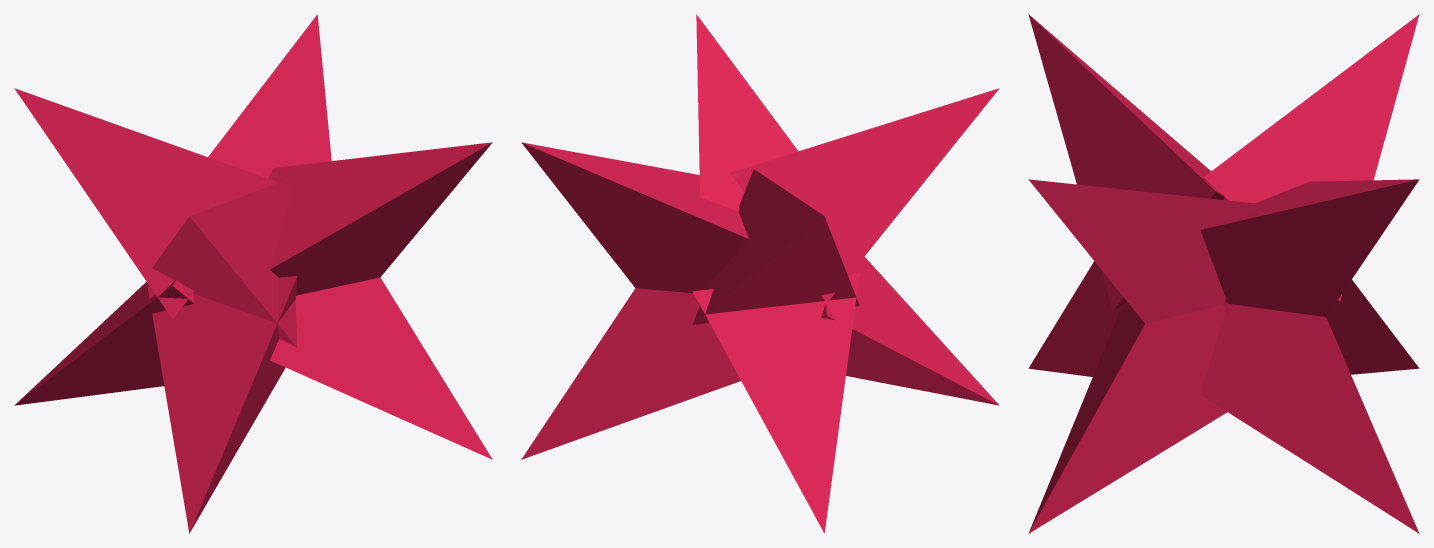
Rendered from spion_core.dae.
3 renders of one model, left to right at view 1: azimuth 30°, elevation 25°; view 2: azimuth 150°, elevation 25°; view 3: azimuth 270°, elevation 25°, orthographic. The views are drawn at different scales.
Parts seen in each view (by area): view 1: Cone_3, Cone_0, Cone_7, Cone_2, Cone_1, Cone_5, Cone_6; view 2: Cone_6, Cone_5, Cone_4, Cone_1, Cone_7, Cone_0, Cone_3; view 3: Cone_4, Cone_2, Cone_5, Cone_3, Cone_7, Cone_1, Cone_0, Cone_6.
Boxes of the visible parts, x1=… form: Cone_3: x1=268, y1=142, x2=492, y2=295; Cone_0: x1=147, y1=276, x2=297, y2=533; Cone_7: x1=14, y1=88, x2=278, y2=319; Cone_2: x1=270, y1=277, x2=492, y2=459; Cone_1: x1=152, y1=178, x2=297, y2=347; Cone_5: x1=208, y1=14, x2=331, y2=178; Cone_6: x1=14, y1=279, x2=194, y2=405; Cone_6: x1=692, y1=272, x2=859, y2=533; Cone_5: x1=521, y1=142, x2=748, y2=293; Cone_4: x1=521, y1=288, x2=740, y2=459; Cone_1: x1=730, y1=88, x2=999, y2=302; Cone_7: x1=692, y1=169, x2=859, y2=324; Cone_0: x1=821, y1=256, x2=999, y2=405; Cone_3: x1=696, y1=14, x2=797, y2=211; Cone_4: x1=1200, y1=304, x2=1419, y2=533; Cone_2: x1=1028, y1=302, x2=1227, y2=533; Cone_5: x1=1200, y1=179, x2=1419, y2=316; Cone_3: x1=1028, y1=179, x2=1267, y2=323; Cone_7: x1=1203, y1=14, x2=1419, y2=301; Cone_1: x1=1028, y1=14, x2=1223, y2=310; Cone_0: x1=1028, y1=261, x2=1127, y2=376; Cone_6: x1=1326, y1=279, x2=1419, y2=374.
Bounding box in the file's own units: 297 × 297 × 297.
